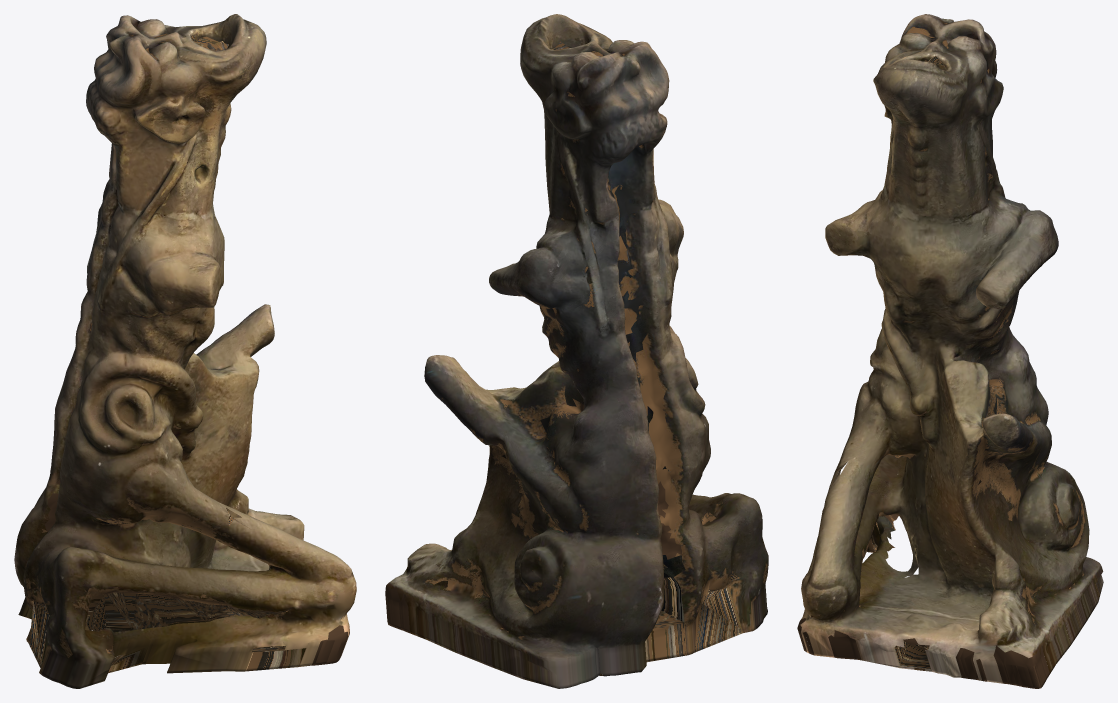
The model's file is 08_human-skeleton.gltf.
The picture shows the model from 3 angles, left to right: view 1: azimuth 30°, elevation 25°; view 2: azimuth 150°, elevation 25°; view 3: azimuth 270°, elevation 25°; orthographic projection. The views are drawn at different scales.
Parts seen in each view (by area): view 1: Mesh_0; view 2: Mesh_0; view 3: Mesh_0.
Boxes of the visible parts, box(x1,y1,x2,y2) form: Mesh_0: box(14, 14, 356, 688); Mesh_0: box(385, 14, 768, 688); Mesh_0: box(797, 14, 1103, 688).
Bounding box in the file's own units: 2.28 × 4.2 × 2.01.
6 materials, 6 textured.
